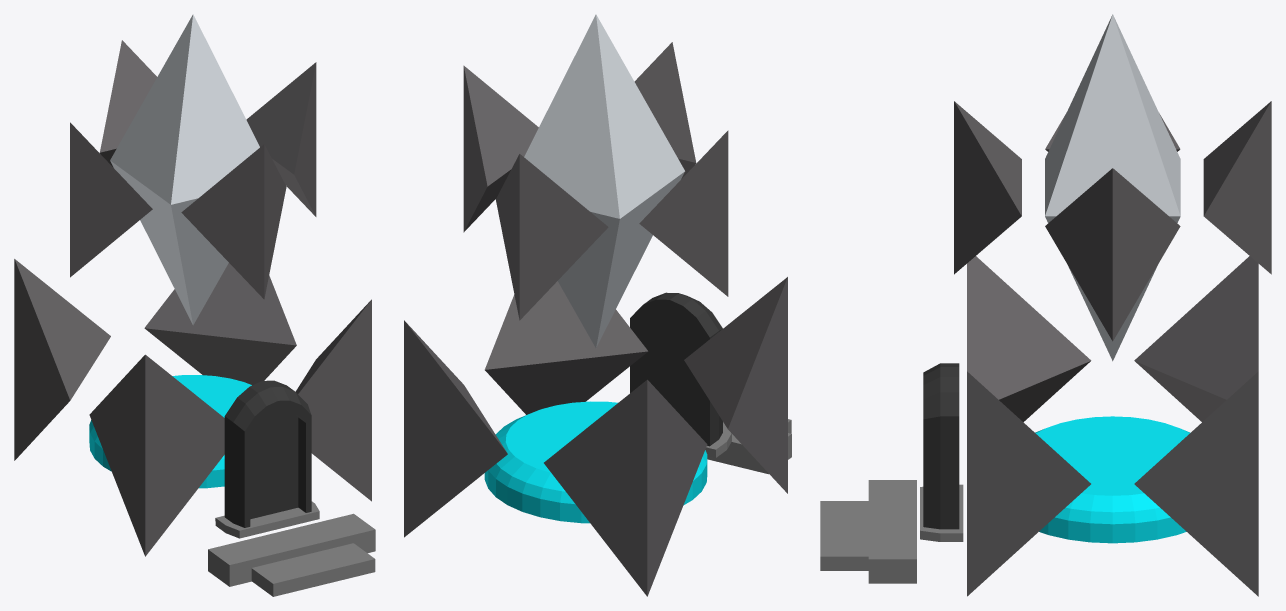
The model's file is ShrineModel03.02.fbx.
3 views of the same model, side by side, from view 1: azimuth 30°, elevation 25°; view 2: azimuth 150°, elevation 25°; view 3: azimuth 270°, elevation 25° (orthographic). The views are drawn at different scales.
Visible parts, largest first — view 1: Cube.005, Holder.006, Cube.003, Holder.007, Holder.008, Holder.005, Holder.004, Holder.003, Holder.001, Cube.001, Cube.002, Holder.002 (+2 smaller); view 2: Cube.005, Holder.007, Holder.008, Holder.006, Holder.005, Holder.002, Cylinder, Cube.003, Holder.003, Holder.001, Holder.004, Cube.001; view 3: Cube.005, Holder.008, Holder.005, Cylinder, Holder.001, Holder.007, Holder.006, Holder.002, Holder.004, Cube.003, Cube.001, Cube.002 (+1 smaller).
Boxes of the visible parts, <box> form: Cube.005: <box>110,14,259,325</box>; Holder.006: <box>89,354,224,556</box>; Cube.003: <box>224,380,311,527</box>; Holder.007: <box>14,259,110,460</box>; Holder.008: <box>144,263,296,385</box>; Holder.005: <box>295,299,371,501</box>; Holder.004: <box>181,144,286,299</box>; Holder.003: <box>70,122,152,277</box>; Holder.001: <box>246,62,316,216</box>; Cube.001: <box>208,513,375,586</box>; Cube.002: <box>251,543,375,596</box>; Holder.002: <box>99,40,156,167</box>; Cube.005: <box>524,14,684,347</box>; Holder.007: <box>544,379,707,596</box>; Holder.008: <box>404,320,507,537</box>; Holder.006: <box>684,277,787,493</box>; Holder.005: <box>484,281,648,414</box>; Holder.002: <box>495,154,608,320</box>; Cylinder: <box>484,401,707,523</box>; Cube.003: <box>630,292,722,446</box>; Holder.003: <box>639,130,728,296</box>; Holder.001: <box>463,65,538,232</box>; Holder.004: <box>634,42,696,179</box>; Cube.001: <box>707,422,791,474</box>; Cube.005: <box>1045,14,1180,361</box>; Holder.008: <box>1134,371,1258,596</box>; Holder.005: <box>967,371,1090,596</box>; Cylinder: <box>1035,416,1190,543</box>; Holder.001: <box>1045,168,1180,341</box>; Holder.007: <box>1134,256,1258,421</box>; Holder.006: <box>967,256,1091,421</box>; Holder.002: <box>1203,101,1271,274</box>; Holder.004: <box>954,101,1021,274</box>; Cube.003: <box>923,363,959,529</box>; Cube.001: <box>868,480,916,583</box>; Cube.002: <box>820,501,868,570</box>.
Bounding box in the file's own units: 331 × 610 × 470.
